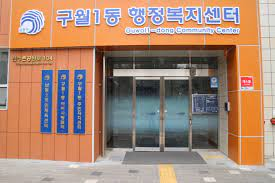guide_blocks: (158, 165, 176, 183)
